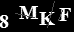8: (1, 14, 8, 28)
F: (58, 7, 71, 22)
K: (38, 12, 56, 25)
M: (17, 5, 38, 19)
